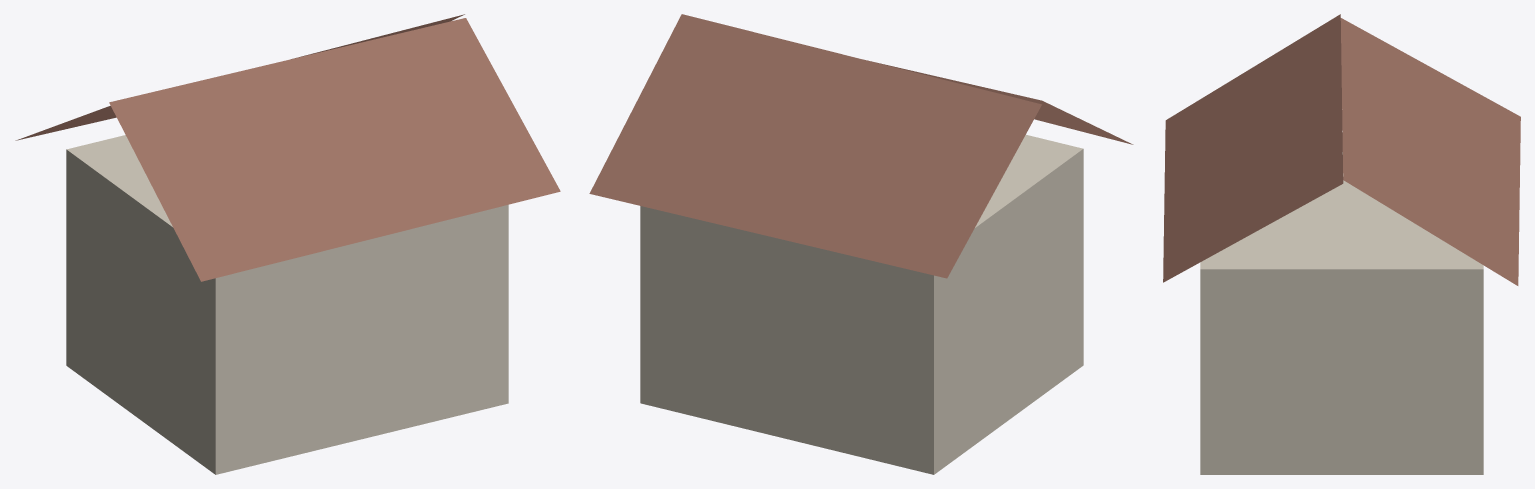
Rendered from house_c_lod.glb.
3 renders of one model, left to right at view 1: azimuth 30°, elevation 25°; view 2: azimuth 150°, elevation 25°; view 3: azimuth 270°, elevation 25°, orthographic. The views are drawn at different scales.
Parts seen in each view (by area): view 1: house_c_lod; view 2: house_c_lod; view 3: house_c_lod.
Boxes of the visible parts, bbox=[...] form: house_c_lod: bbox=[15, 14, 560, 474]; house_c_lod: bbox=[589, 14, 1133, 474]; house_c_lod: bbox=[1163, 14, 1520, 474].
Size of the model in its own units: 4.16 by 3.62 by 3.79.
